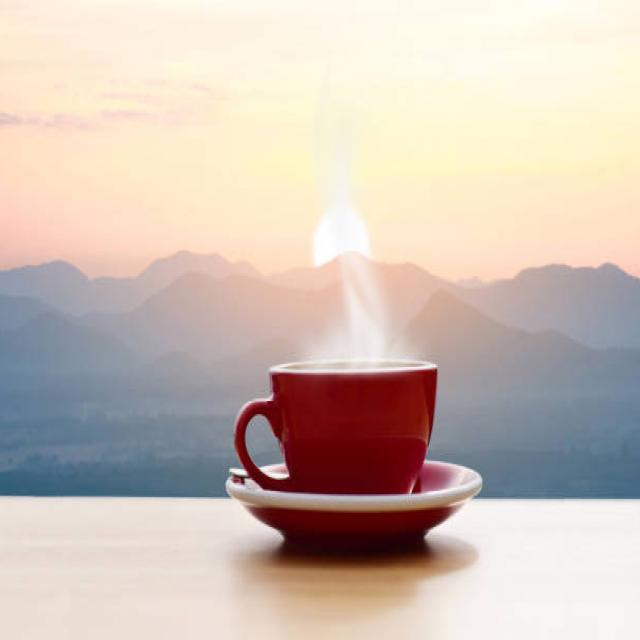Red_cup: (234, 361, 436, 494)
